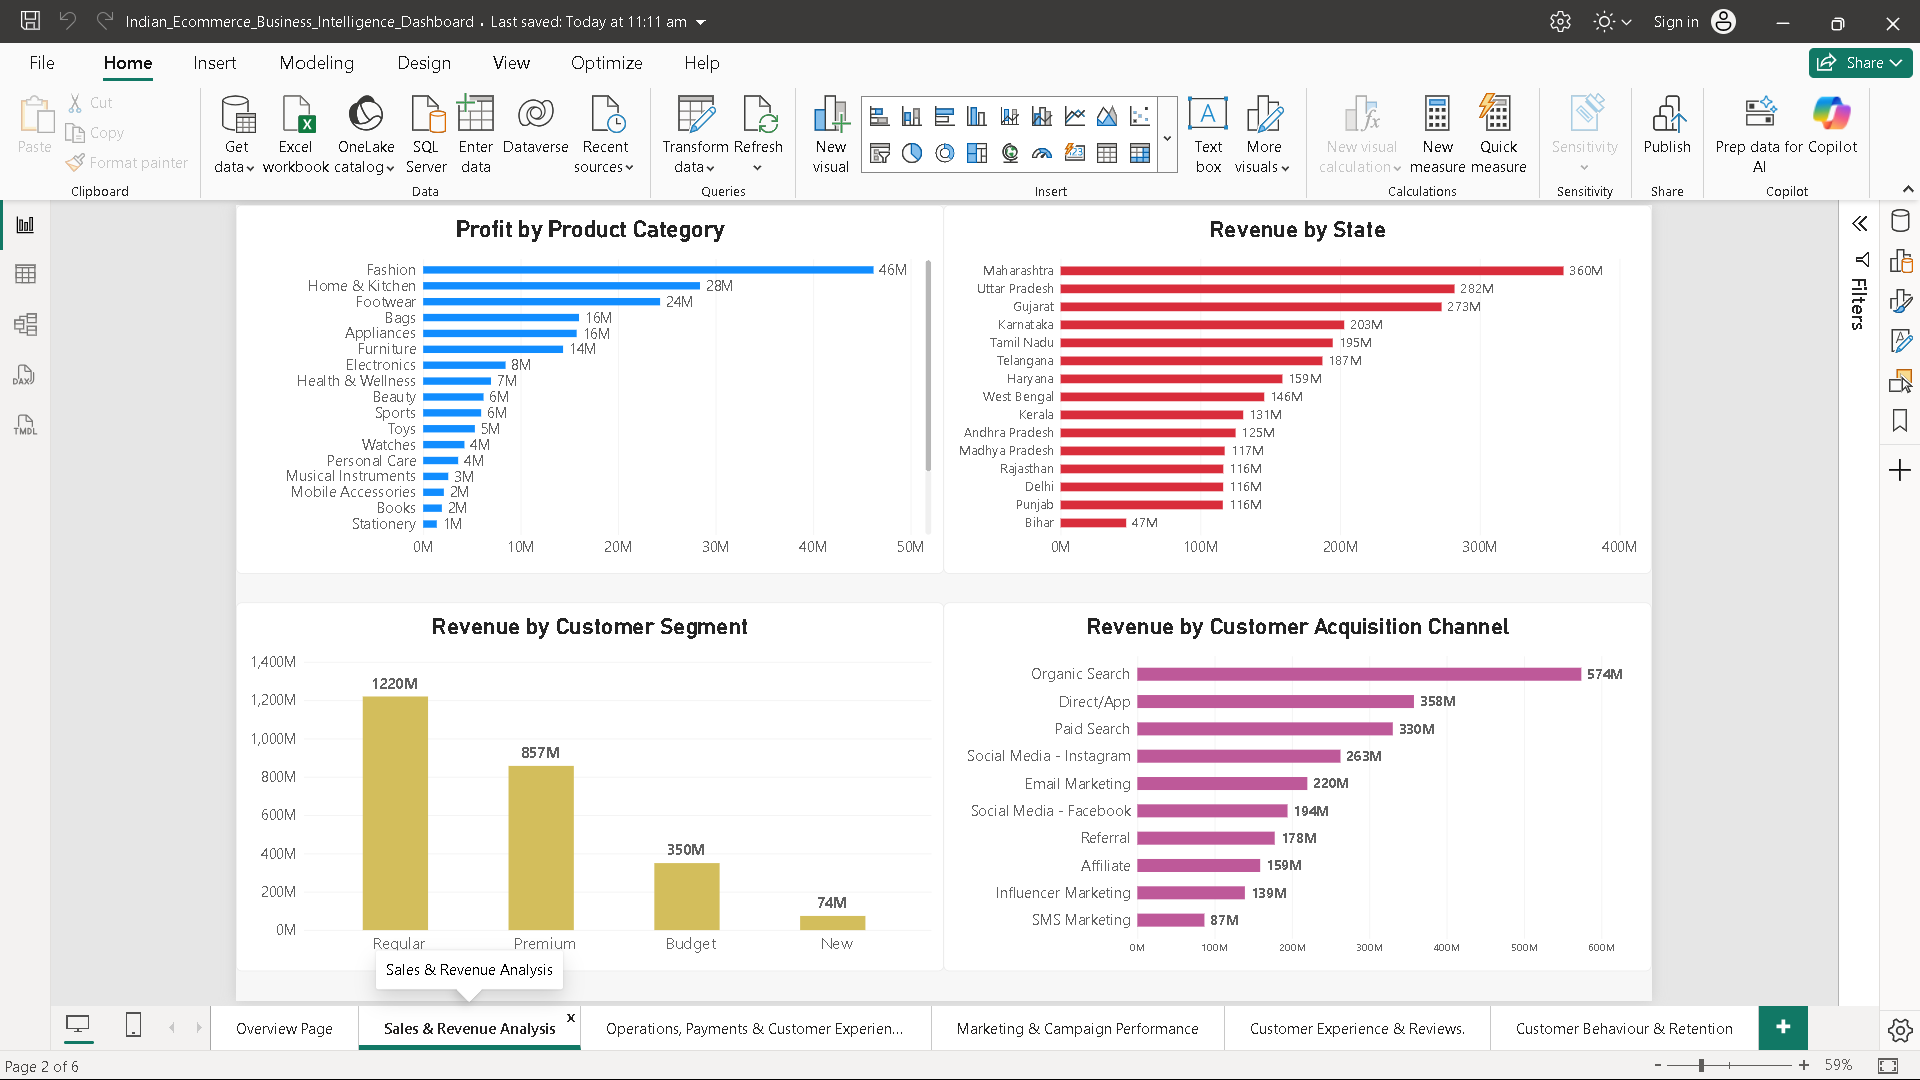

The page's visual inventory and layout, read from the dashboard file:
{"tool":"powerbi","page":{"name":"Sales & Revenue Analysis","canvas":[1920,1080],"ordinal":1},"visuals":[{"type":"clusteredBarChart","title":"Profit by Product Category","fields":{"Category":["products.category"],"Y":["Sum(order_items.profit)"]},"box":[0,0,960,499.8],"z":0},{"type":"clusteredBarChart","title":"Revenue by State","fields":{"Category":["customers.state"],"Y":["Sum(orders.final_amount)"]},"box":[960,0,960,500],"z":1},{"type":"clusteredColumnChart","title":"Revenue by Customer Segment","fields":{"Category":["customers.customer_segment"],"Y":["Sum(customers.total_spend)"]},"box":[0,539.1,960,500],"z":2},{"type":"clusteredBarChart","title":"Revenue by Customer Acquisition Channel","fields":{"Category":["customers.acquisition_channel"],"Y":["Sum(customers.total_spend)"]},"box":[960,539,960,500],"z":3}]}

Visuals, with their boxes on the page's 1920x1080 design canvas (x1, y1, x2, y2). These are canvas units, not pixel positions in the 1920x1080 screenshot, which may show the page scaled, cropped or inside an application window:
"Profit by Product Category" clusteredBarChart: x1=0 y1=0 x2=960 y2=500
"Revenue by State" clusteredBarChart: x1=960 y1=0 x2=1920 y2=500
"Revenue by Customer Segment" clusteredColumnChart: x1=0 y1=539 x2=960 y2=1039
"Revenue by Customer Acquisition Channel" clusteredBarChart: x1=960 y1=539 x2=1920 y2=1039
